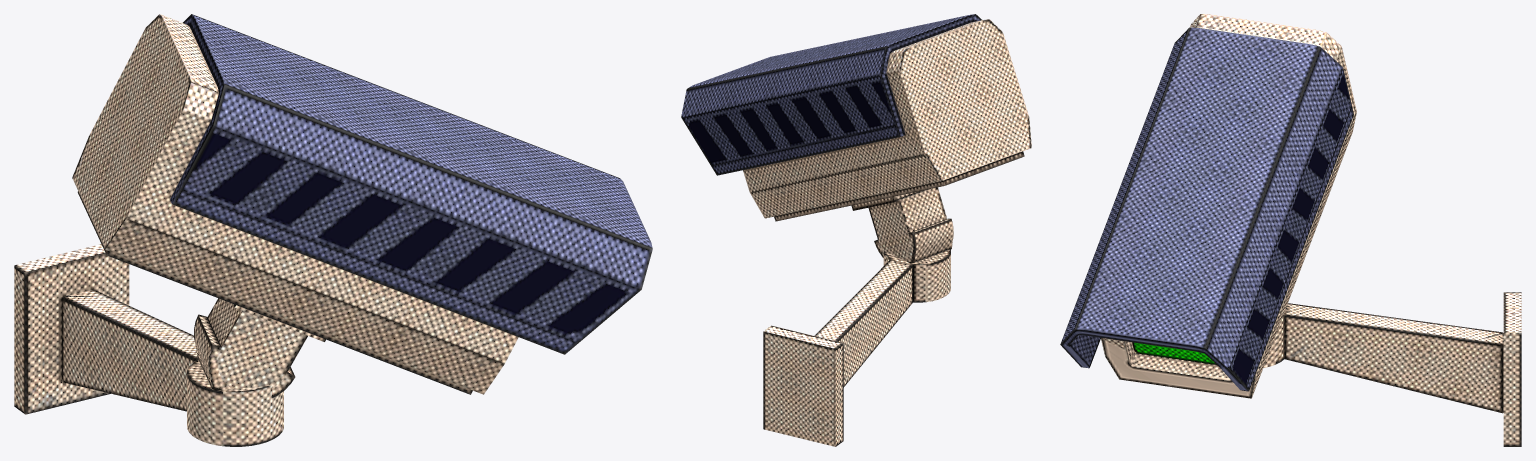
File: securitycamera.glb
3 views of the same model, side by side, from view 1: azimuth 30°, elevation 25°; view 2: azimuth 150°, elevation 25°; view 3: azimuth 270°, elevation 25° (orthographic). The views are drawn at different scales.
Parts seen in each view (by area): view 1: Cylinder; view 2: Cylinder; view 3: Cylinder.
Part boxes in pixels (left/top/right/bottom): Cylinder: left=14, top=14, right=652, bottom=446; Cylinder: left=681, top=14, right=1031, bottom=446; Cylinder: left=1060, top=14, right=1521, bottom=446.
Bounding box in the file's own units: 1.27 × 1.15 × 1.25.
Materials: 1 (1 with a texture image).
